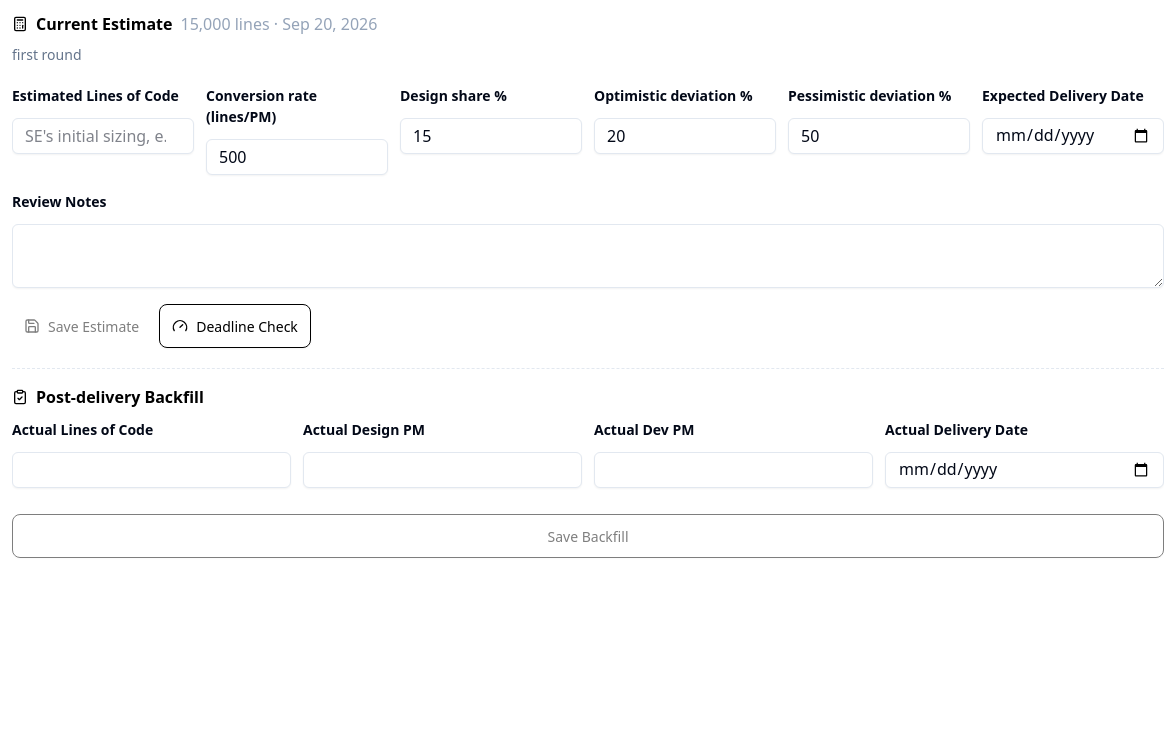
EstimationPanel › shows current estimate and live conversion preview while typing LOC
Expected: the text "Current Estimate" is shown, [36,12,172,36]
Expected: the text "15,000 lines · Sep 20, 2026" is shown, [180,12,377,36]
Type "10000" into the number field labelled "Estimated Lines of Code" at (103, 136), box [12,118,194,154]
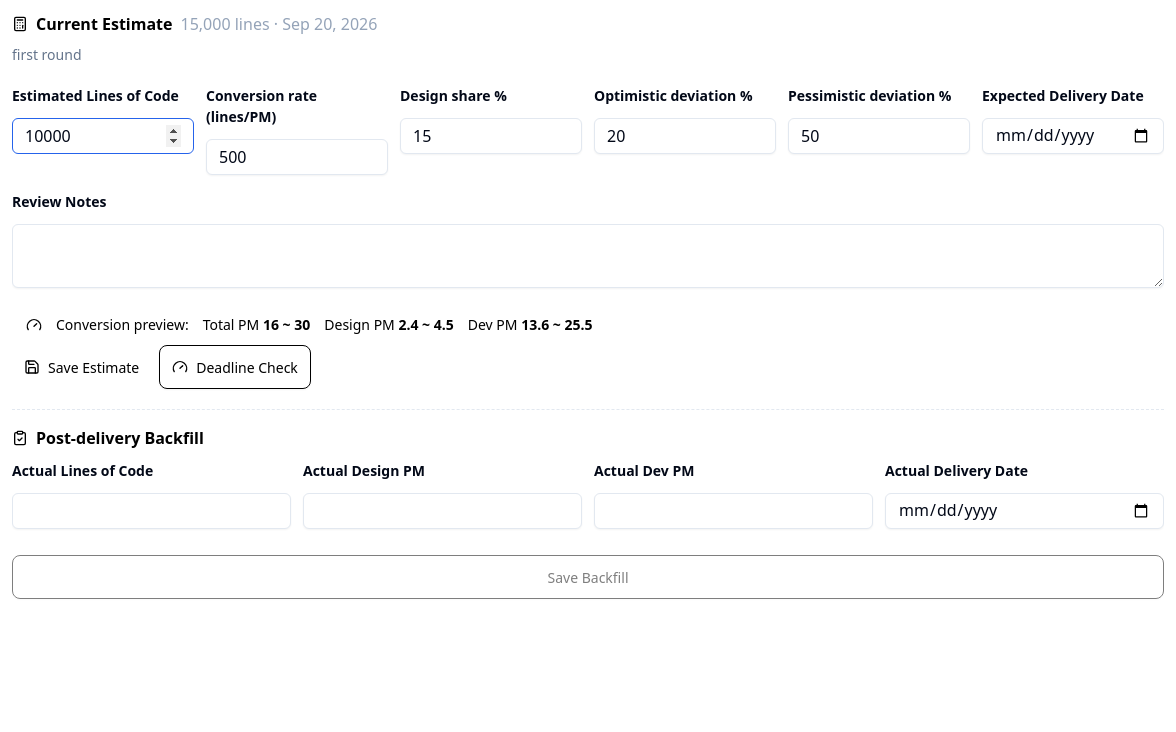
Expected: the text "Conversion preview" shows "16 ~ 30", [26,315,592,334]
Expected: the text "Conversion preview" shows "2.4 ~ 4.5", [26,315,592,334]
Expected: the text "Conversion preview" shows "13.6 ~ 25.5", [26,315,592,334]
